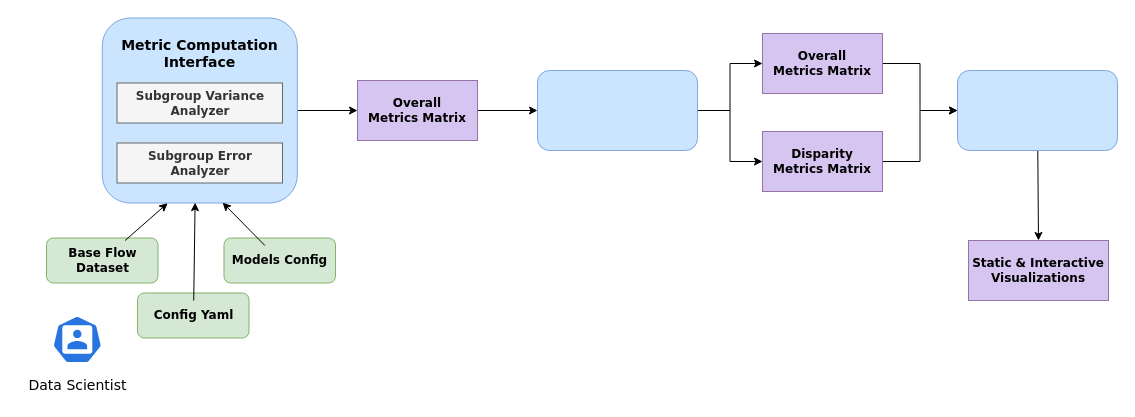
Some shapes in this 1135 by 417 pixel diagram are drawn without their labels. Each missing label, with the centre of its shape:
"Metric Composer" belongs at pixel 617 110.
"Metric Visualizers" belongs at pixel 1037 110.
